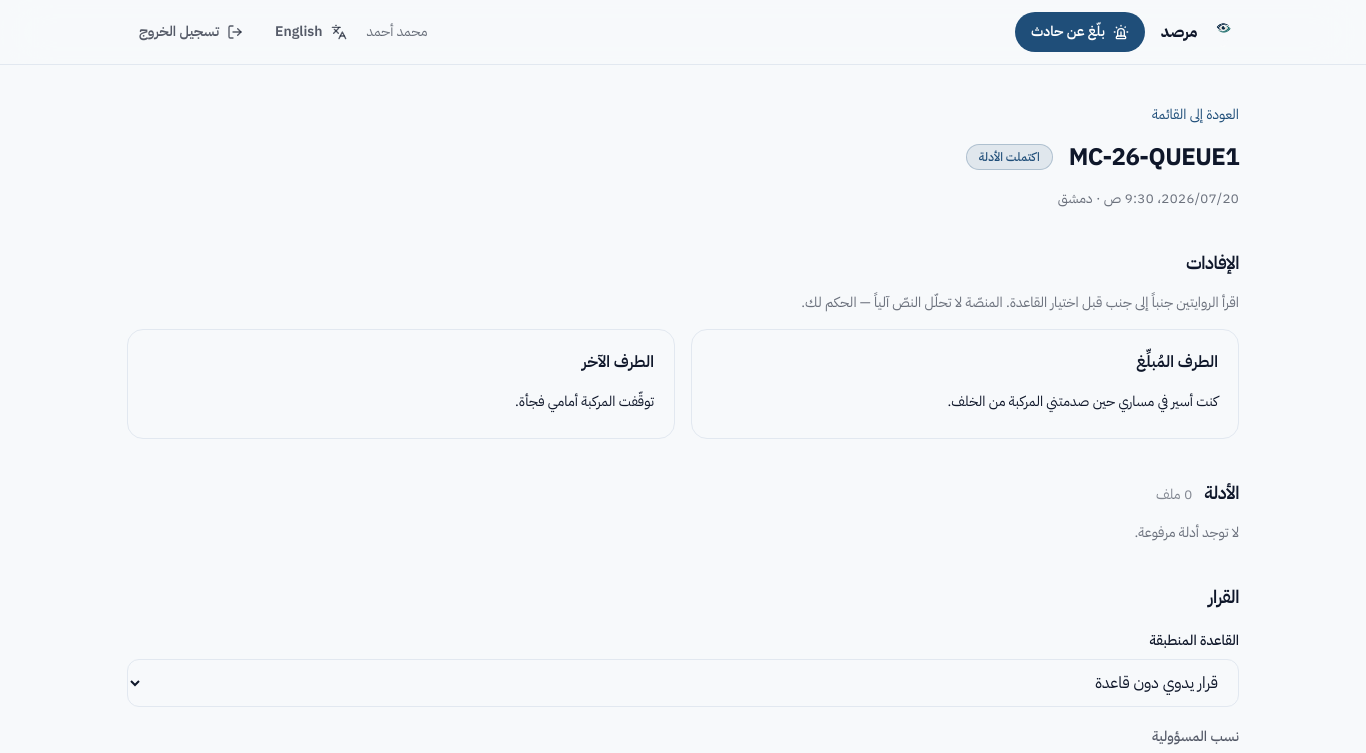
Scenario: review screen › sends the decision and returns to the queue
The width and height of the screenshot is (1366, 753).
Select "REAR_END — اصطدام خلفي: المسؤولية كاملة على المركبة الخلفية." in the dropdown labelled "القاعدة المنطبقة": (683, 683) x1=127 y1=659 x2=1239 y2=707
(page scrolled)
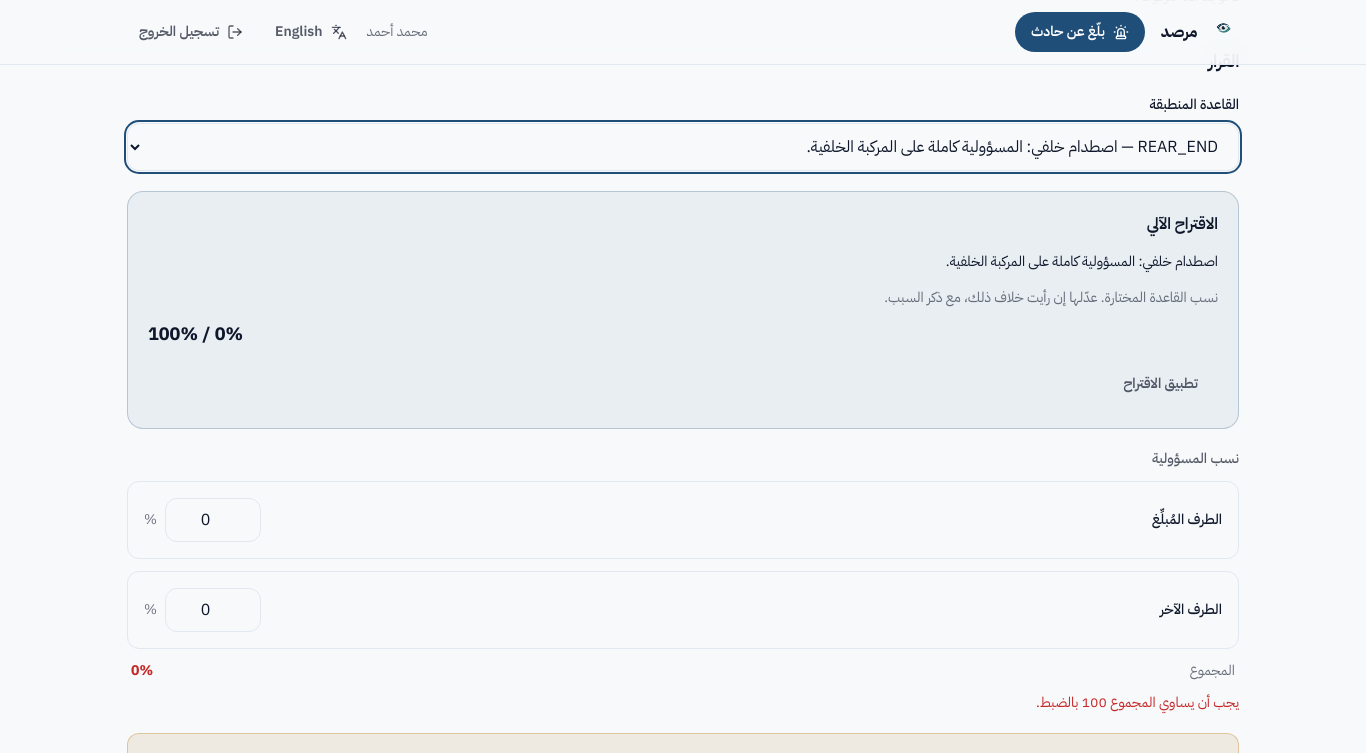
Click the button "تطبيق الاقتراح": (1161, 384) x1=1103 y1=360 x2=1218 y2=408
(page scrolled)
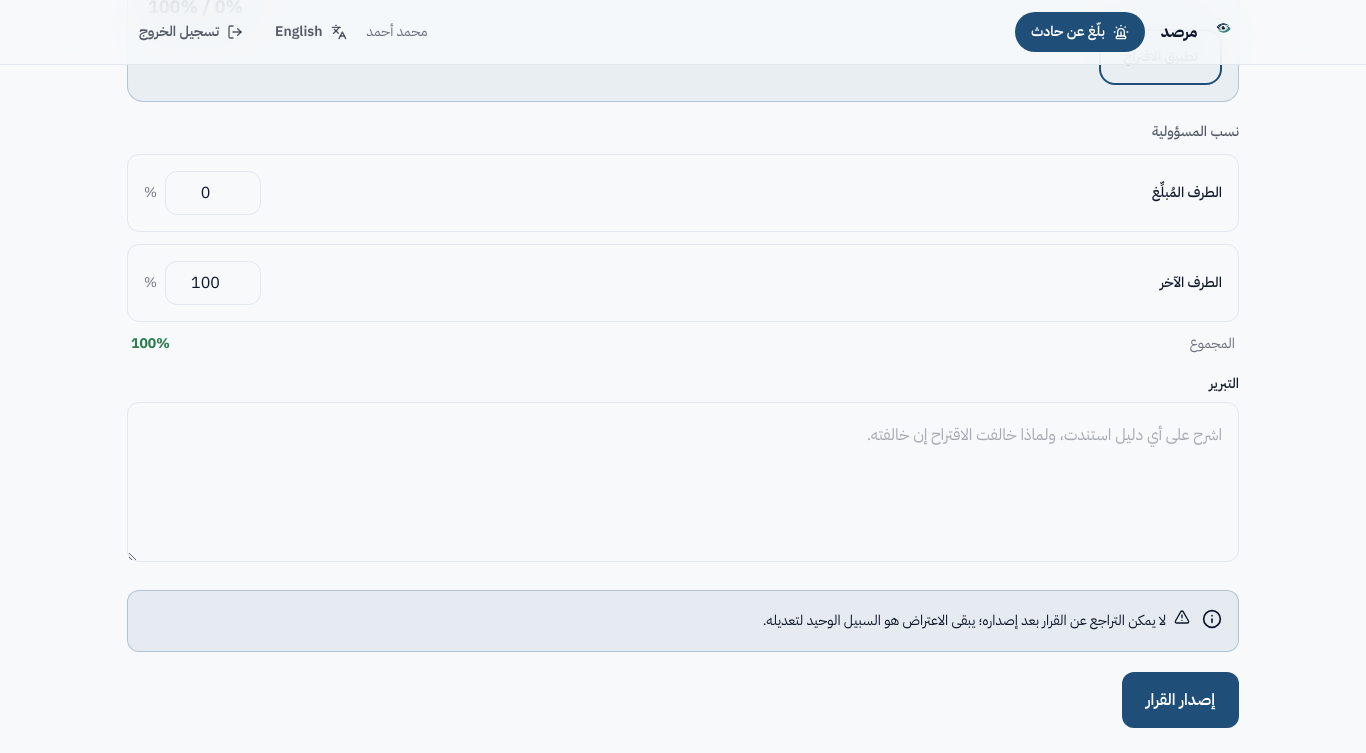
Click the button "إصدار القرار": (1180, 700) x1=1122 y1=672 x2=1239 y2=728
(page scrolled)
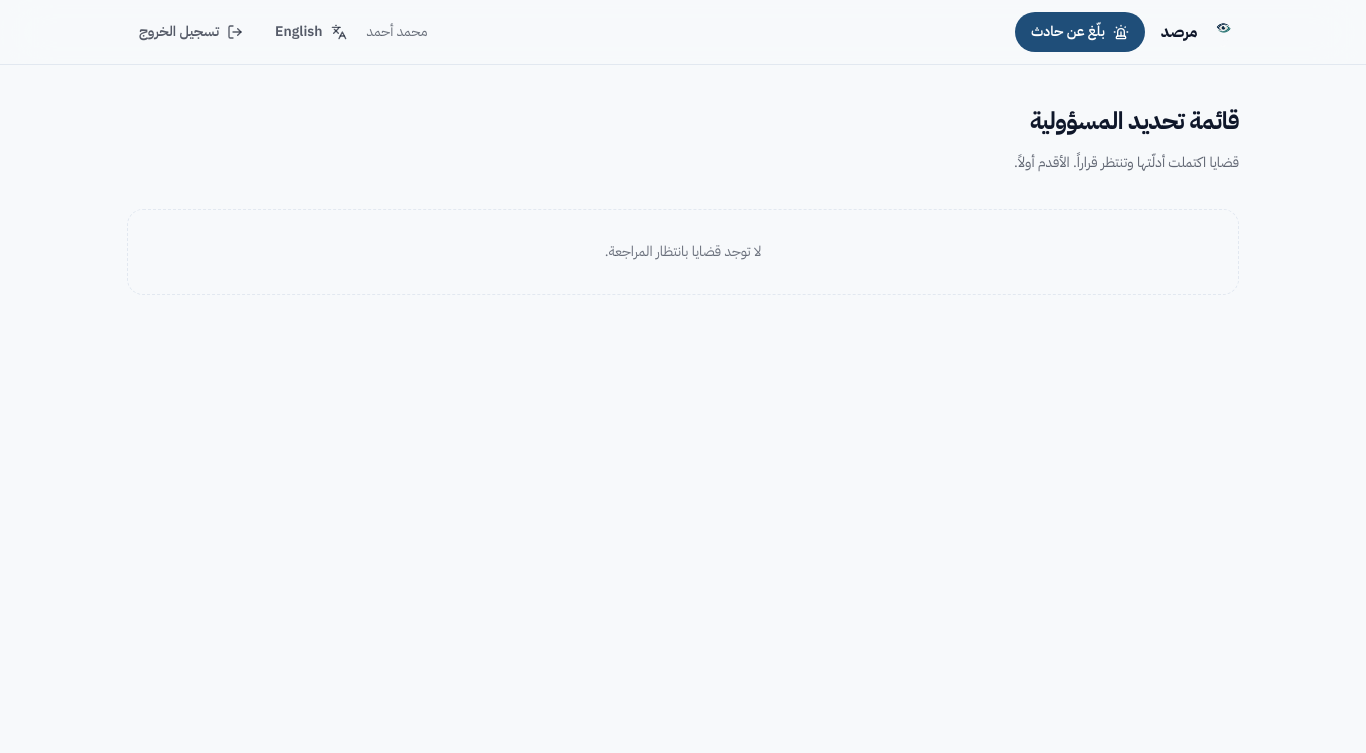
Expected: the text "لا توجد قضايا بانتظار المراجعة." is shown, x1=127 y1=209 x2=1239 y2=295
